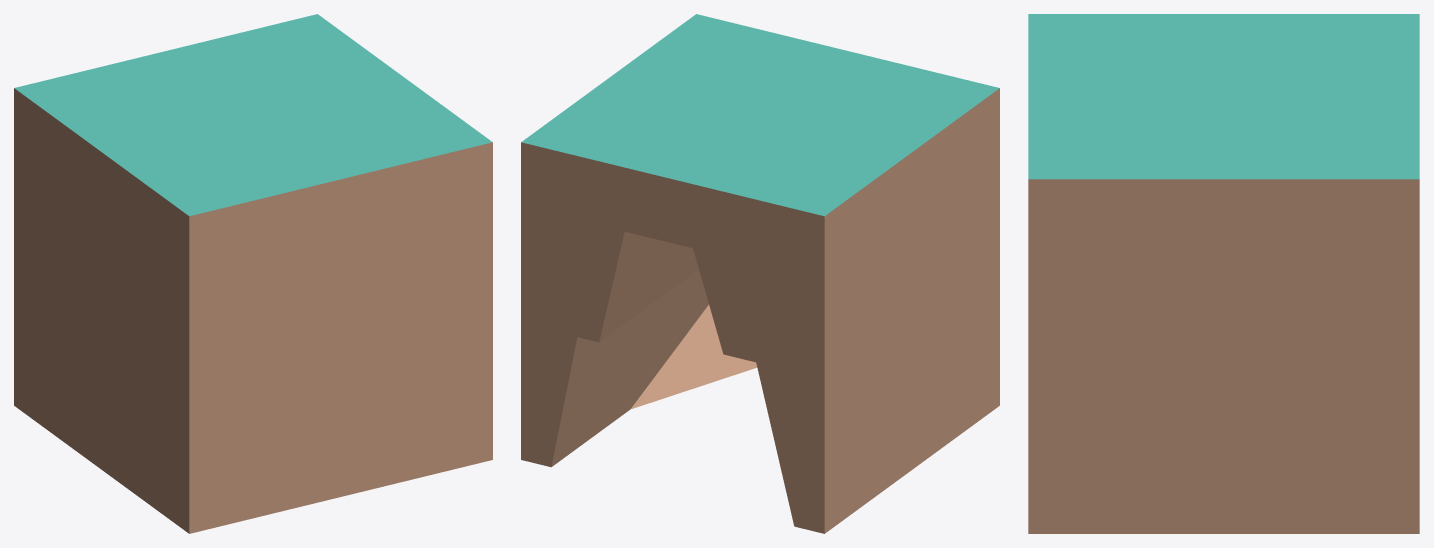
File: cliff_blockCave_rock.glb
The picture shows the model from 3 angles, left to right: view 1: azimuth 30°, elevation 25°; view 2: azimuth 150°, elevation 25°; view 3: azimuth 270°, elevation 25°; orthographic projection. The views are drawn at different scales.
Visible parts, largest first — view 1: cliff_blockCave_rock; view 2: cliff_blockCave_rock; view 3: cliff_blockCave_rock.
Part boxes in pixels (x1,y1,x2,y2): cliff_blockCave_rock: [14, 14, 492, 533]; cliff_blockCave_rock: [521, 14, 999, 533]; cliff_blockCave_rock: [1028, 14, 1419, 533].
Bounding box in the file's own units: 1 × 1 × 1.
